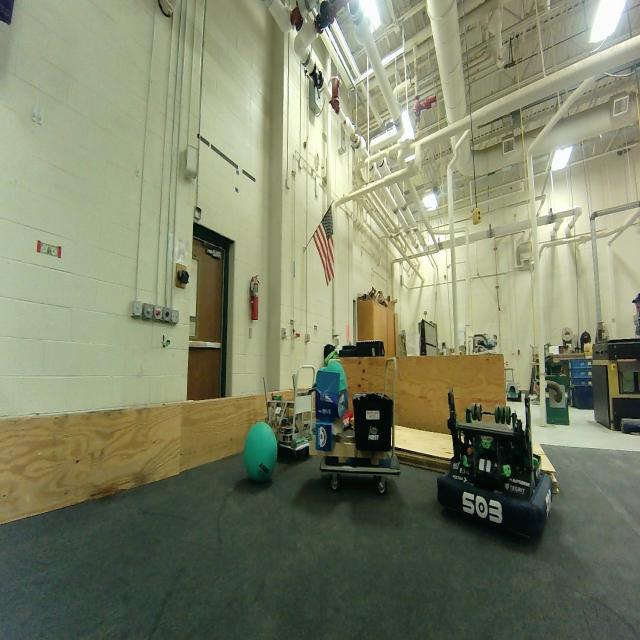algae: (243, 416, 279, 482)
